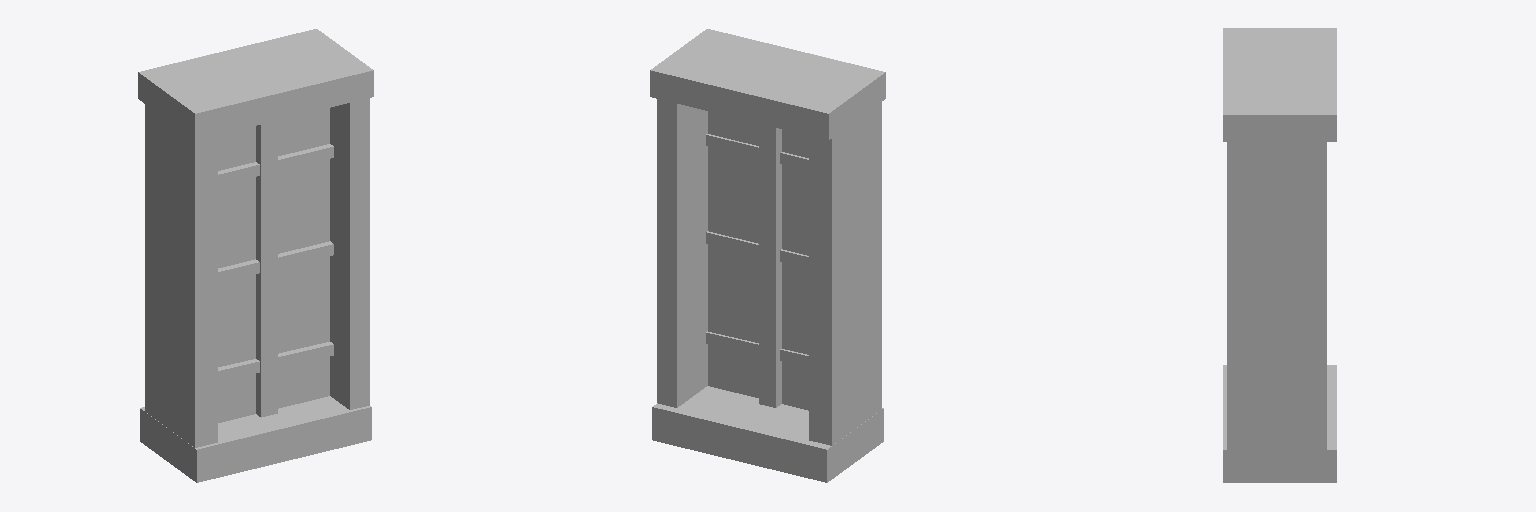
File: Window_Thin_Flat3.obj
The picture shows the model from 3 angles: view 1: azimuth 30°, elevation 25°; view 2: azimuth 150°, elevation 25°; view 3: azimuth 270°, elevation 25°; orthographic projection.
Visible parts, largest first — view 1: Window_Thin_Flat3; view 2: Window_Thin_Flat3; view 3: Window_Thin_Flat3.
Part boxes in pixels (x1,y1,x2,y2): Window_Thin_Flat3: (138,29,373,482); Window_Thin_Flat3: (650,29,885,482); Window_Thin_Flat3: (1223,28,1336,482).
Size of the model in its own units: 0.788 by 1.56 by 0.4357.